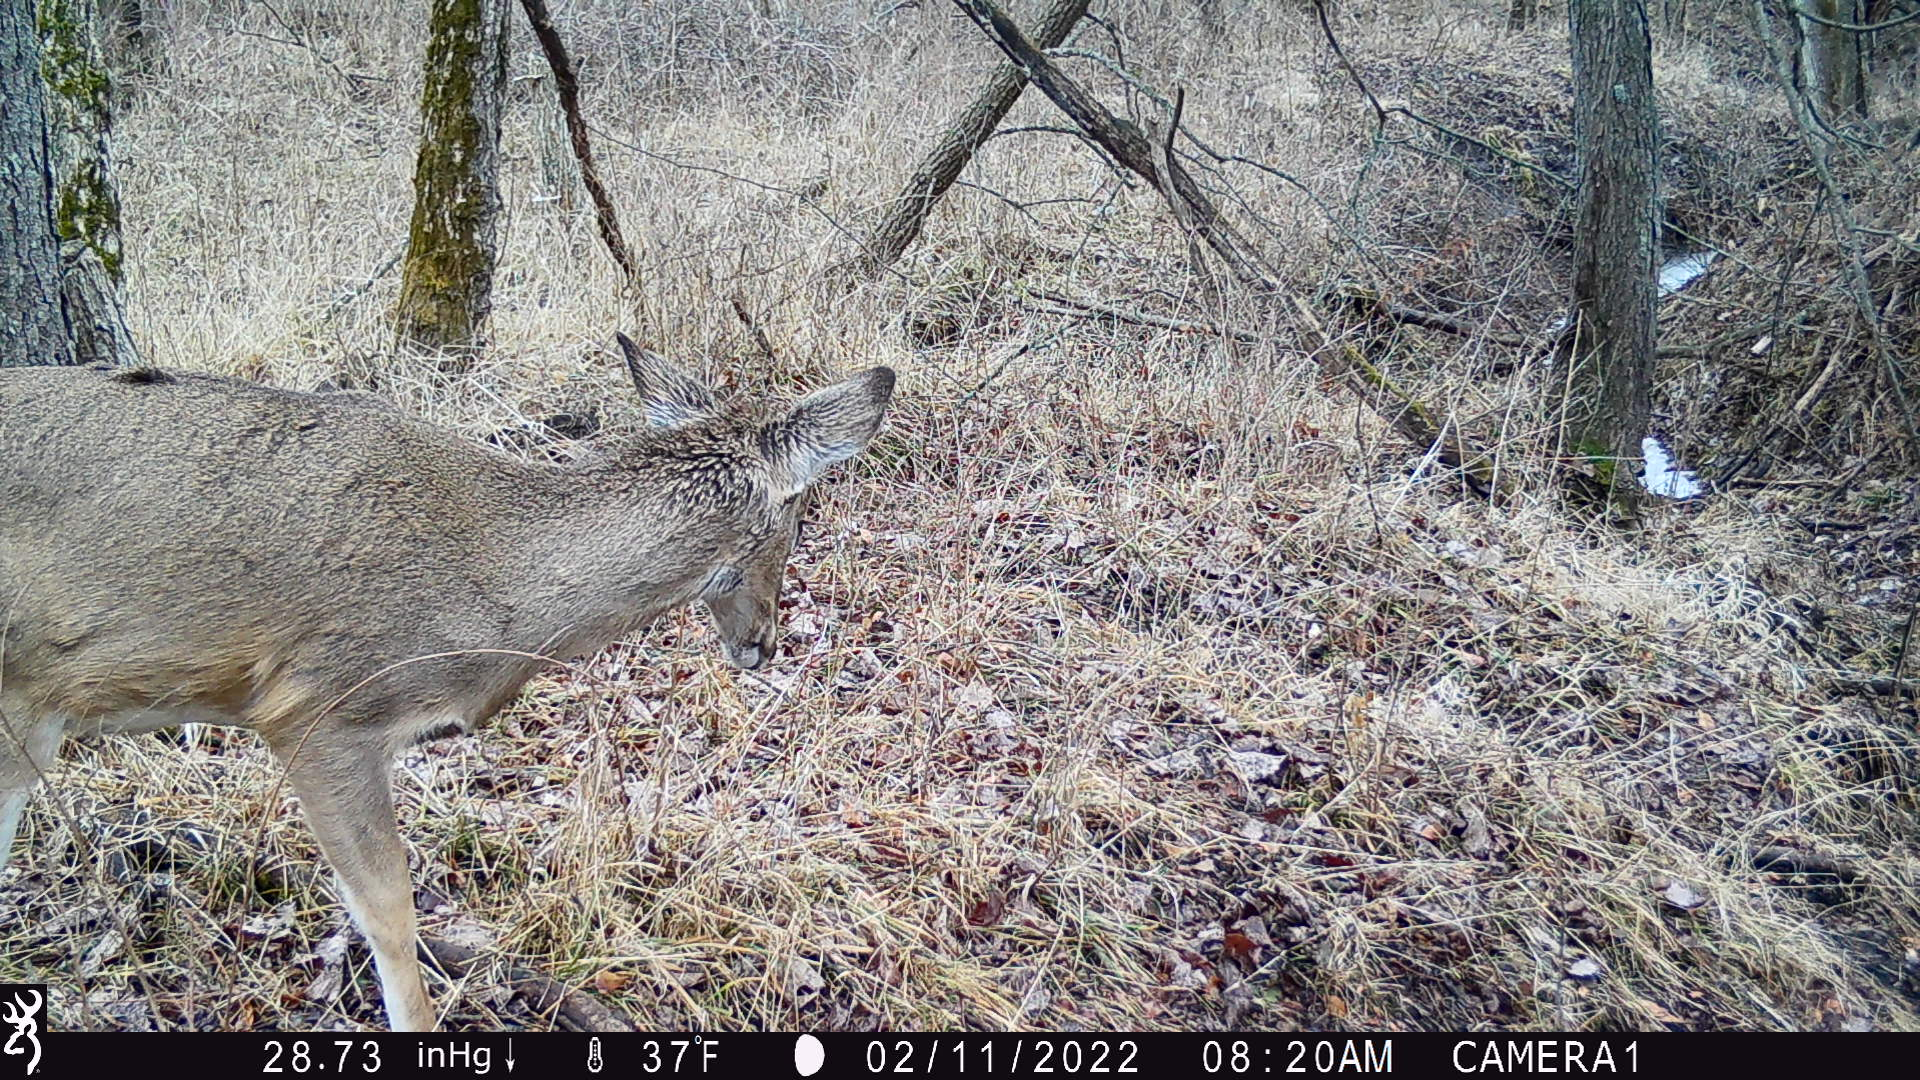Deer: (1, 330, 895, 1030)
